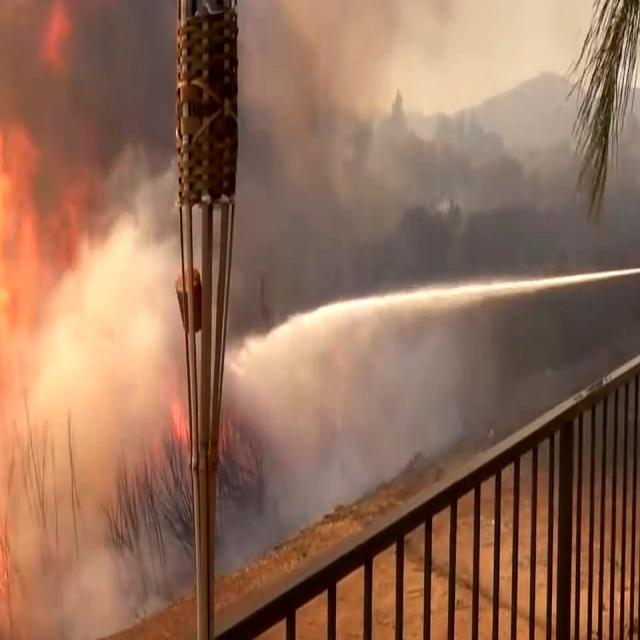fire: (0, 0, 62, 640)
smoke: (67, 182, 163, 479)
